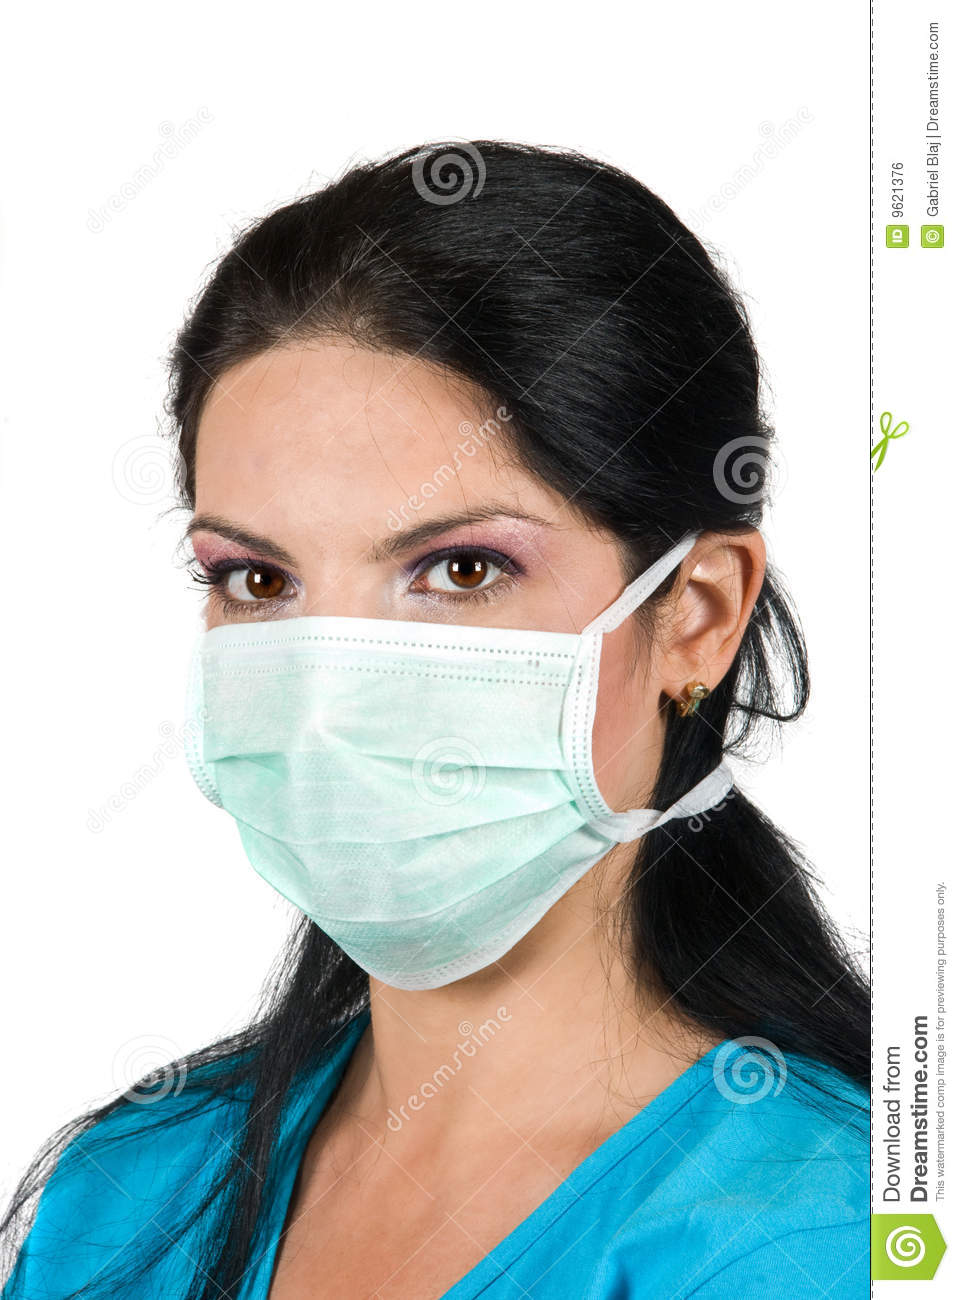mask: (185, 609, 654, 992)
